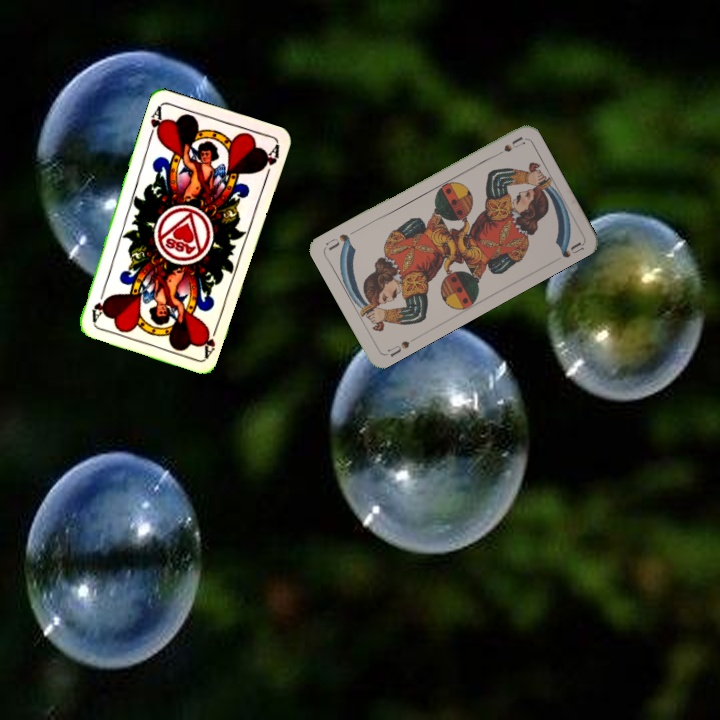HA: (145, 102, 167, 142), (199, 320, 221, 360)
SU: (488, 132, 527, 160), (382, 333, 419, 360)
